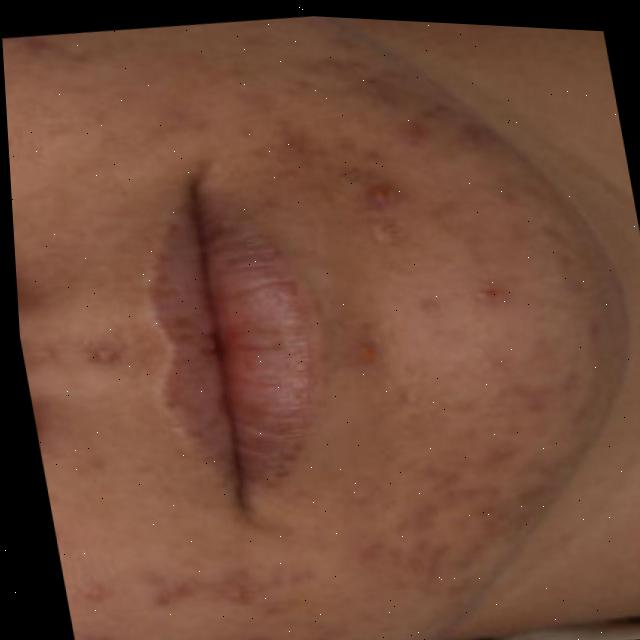Acne: (252, 49, 578, 544), (127, 523, 276, 640), (88, 340, 125, 385)
